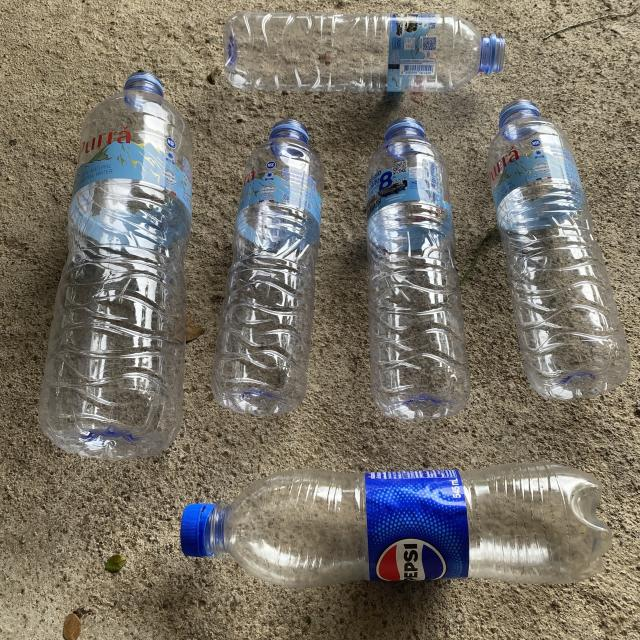plastik: (39, 72, 192, 460), (181, 462, 611, 588), (488, 100, 630, 400), (211, 120, 324, 416), (366, 119, 470, 420), (224, 11, 505, 92)
